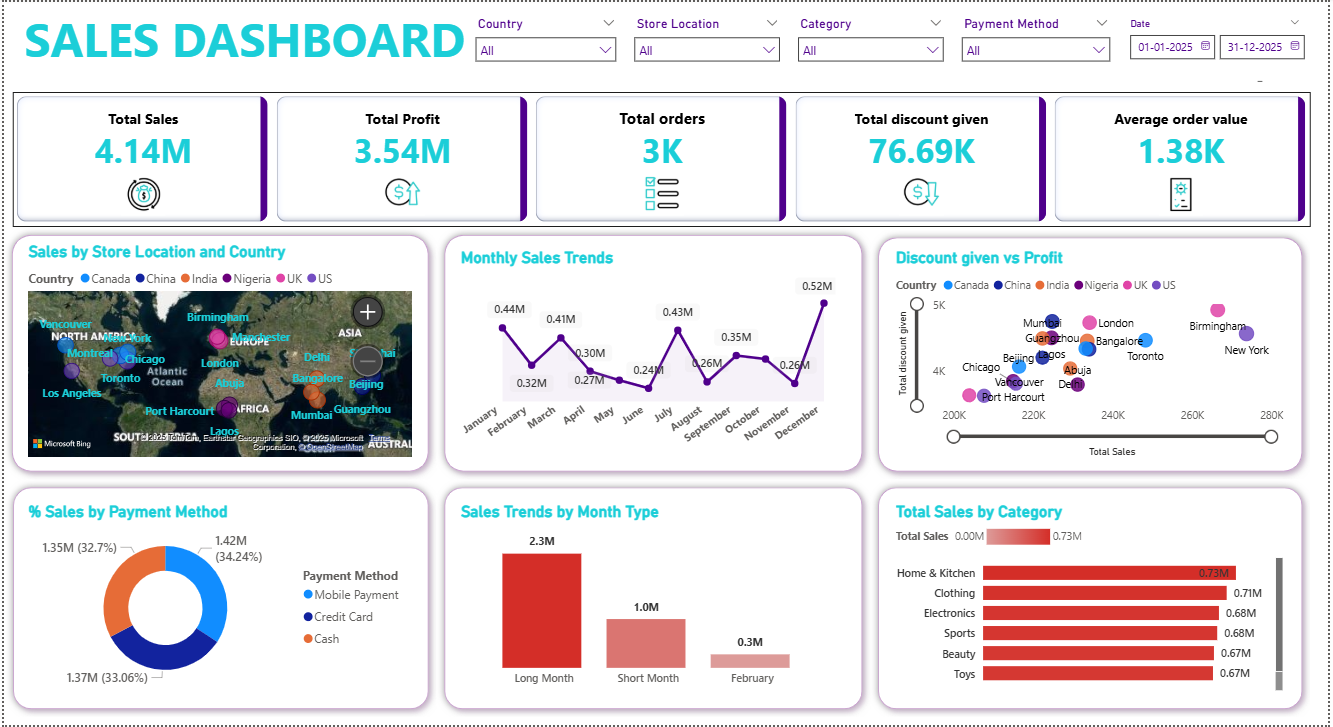

What the dashboard file says about the page in this screenshot:
{"tool":"powerbi","page":{"name":"Page 1","canvas":[1500,820],"ordinal":0},"visuals":[{"type":"cardVisual","fields":{"Data":["public Sales Data.Total Sales","public Sales Data.Total Profit","public Sales Data.Total orders","public Sales Data.Total discount given","public Sales Data.Average order value"]},"box":[9.5,102.2,1470.3,152.6],"z":0},{"type":"textbox","box":[0,0,545.6,86],"z":1000},{"type":"slicer","fields":{"Values":["public Sales Data.Country"]},"box":[524.6,10.9,179.9,74.9],"z":2000},{"type":"slicer","fields":{"Values":["public Sales Data.Store Location"]},"box":[704.5,10.9,185.3,74.9],"z":3000},{"type":"slicer","fields":{"Values":["public Sales Data.Category"]},"box":[889.8,10.9,185.3,74.9],"z":4000},{"type":"slicer","fields":{"Values":["public Sales Data.Payment Method"]},"box":[1075.1,10.9,188,74.9],"z":5000},{"type":"slicer","fields":{"Values":["public Sales Data.Date"]},"box":[1263.2,12.3,216.7,74.9],"z":6000},{"type":"shape","box":[0,255,490.2,286.2],"z":7000},{"type":"map","title":"Sales by Store Location and Country","fields":{"Category":["public Sales Data.Store Location"],"Size":["public Sales Data.Total Sales"],"Series":["public Sales Data.Country"]},"box":[22.7,272,444.9,247.9],"z":8000},{"type":"shape","box":[490.2,255,491.6,286.2],"z":9000},{"type":"areaChart","title":"Monthly Sales Trends","fields":{"Category":["public Sales Data.Month Name"],"Y":["public Sales Data.Total Sales"]},"box":[512.9,279.1,434.9,240.8],"z":10000},{"type":"shape","box":[490.2,541.2,491.6,269.2],"z":11000},{"type":"columnChart","title":"Sales Trends by  Month Type","fields":{"Category":["public Sales Data. Month Type"],"Y":["public Sales Data.Total Profit"]},"box":[512.9,566.7,434.9,218.2],"z":12000},{"type":"shape","box":[1.4,541.2,488.8,269.2],"z":13000},{"type":"donutChart","title":"% Sales by Payment Method","fields":{"Category":["public Sales Data.Payment Method"],"Y":["public Sales Data.Total Sales"]},"box":[22.7,566.7,444.9,218.2],"z":14000},{"type":"shape","box":[981.8,257.8,498.7,283.3],"z":15000},{"type":"shape","box":[981.8,541.2,498.7,269.2],"z":16000},{"type":"scatterChart","title":"Discount given vs Profit","fields":{"X":["public Sales Data.Total Sales"],"Y":["public Sales Data.Total discount given"],"Category":["public Sales Data.Store Location"],"Series":["public Sales Data.Country"],"Size":["public Sales Data.Total orders"]},"box":[1005.9,279.1,449.1,240.8],"z":17000},{"type":"barChart","fields":{"Category":["public Sales Data.Category"],"Y":["public Sales Data.Total Sales"]},"box":[1005.7,567.1,448.6,218.6],"z":18000}]}

Visuals, with their boxes in screenshot pixels (x1, y1, x2, y2), scaled from the page's 1500x820 canvas onto the 1333x727 screenshot:
cardVisual - public Sales Data.Total Sales x public Sales Data.Total Profit: 8, 91, 1315, 226
textbox: 0, 0, 485, 76
slicer - public Sales Data.Country: 466, 10, 626, 76
slicer - public Sales Data.Store Location: 626, 10, 791, 76
slicer - public Sales Data.Category: 791, 10, 955, 76
slicer - public Sales Data.Payment Method: 955, 10, 1122, 76
slicer - public Sales Data.Date: 1123, 11, 1315, 77
shape: 0, 226, 436, 480
"Sales by Store Location and Country" map: 20, 241, 416, 461
shape: 436, 226, 872, 480
"Monthly Sales Trends" areaChart: 456, 247, 842, 461
shape: 436, 480, 872, 718
"Sales Trends by  Month Type" columnChart: 456, 502, 842, 696
shape: 1, 480, 436, 718
"% Sales by Payment Method" donutChart: 20, 502, 416, 696
shape: 872, 229, 1316, 480
shape: 872, 480, 1316, 718
"Discount given vs Profit" scatterChart: 894, 247, 1293, 461
barChart - public Sales Data.Category x public Sales Data.Total Sales: 894, 503, 1292, 697
